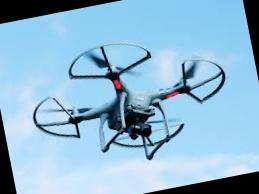drone: (30, 22, 240, 177)
